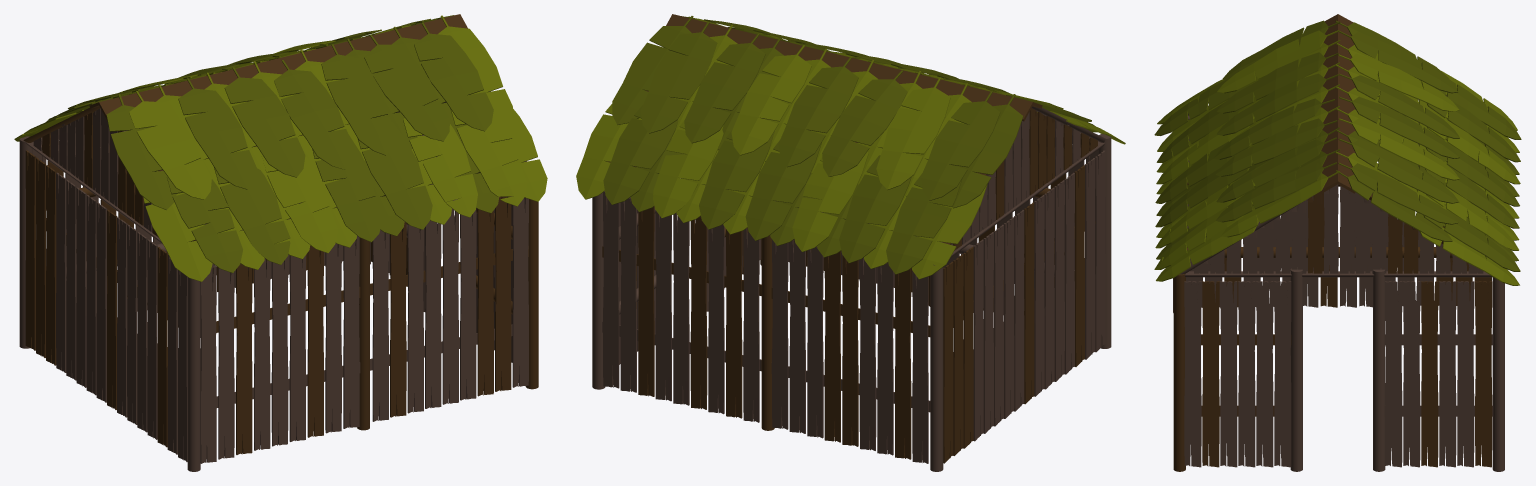
The model's file is House2.fbx.
The picture shows the model from 3 angles, left to right: view 1: azimuth 30°, elevation 25°; view 2: azimuth 150°, elevation 25°; view 3: azimuth 270°, elevation 25°; orthographic projection. The views are drawn at different scales.
Visible parts, largest first — view 1: House; view 2: House; view 3: House.
Boxes of the visible parts, left/top/right/bottom form: House: left=14, top=14, right=547, bottom=471; House: left=576, top=14, right=1125, bottom=471; House: left=1154, top=14, right=1521, bottom=471.
Bounding box in the file's own units: 1534 × 1182 × 1332.
